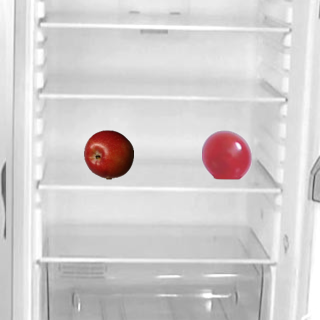Apple Braeburn: (83, 129, 133, 179)
Redcurrant: (201, 129, 251, 179)
